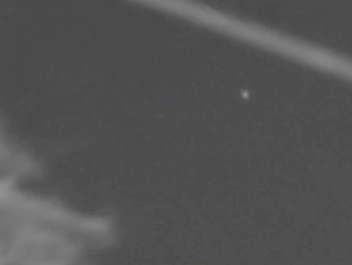Target: (242, 92, 247, 98)
